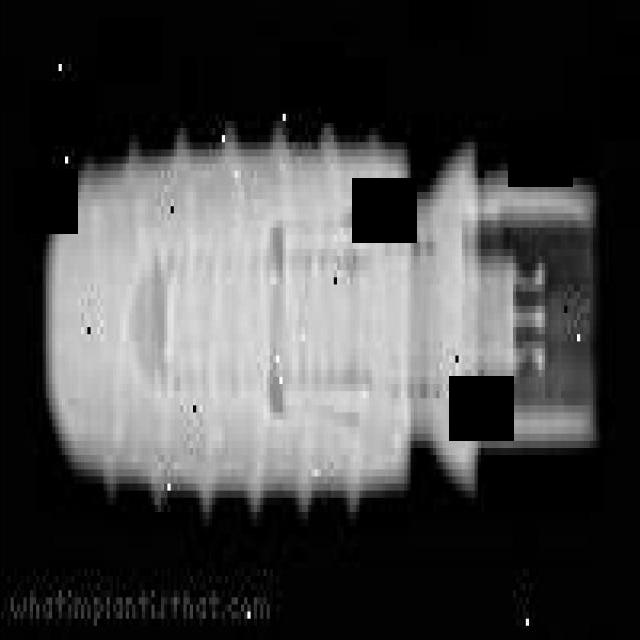Root canal obturation: (42, 121, 595, 519)
